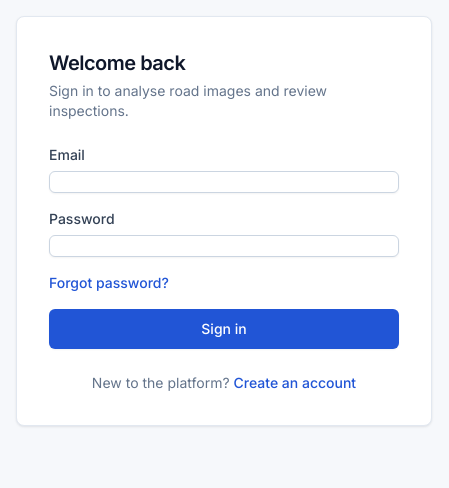
LoginPage › validates the form before submitting
Click the button "Sign in" at (224, 329), box 49,309 -> 399,349
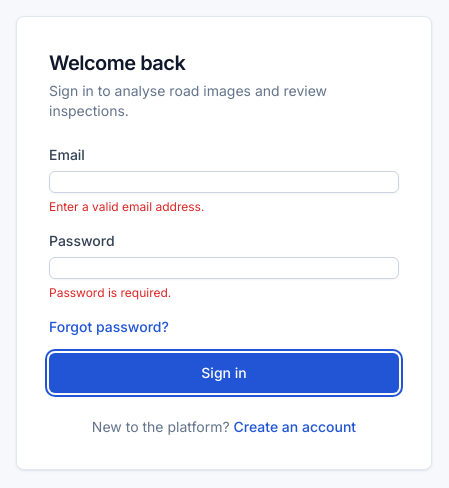
Expected: the text "Enter a valid email address." is shown, 49,199 -> 204,214
Expected: the text "Password is required." is shown, 49,285 -> 171,300
